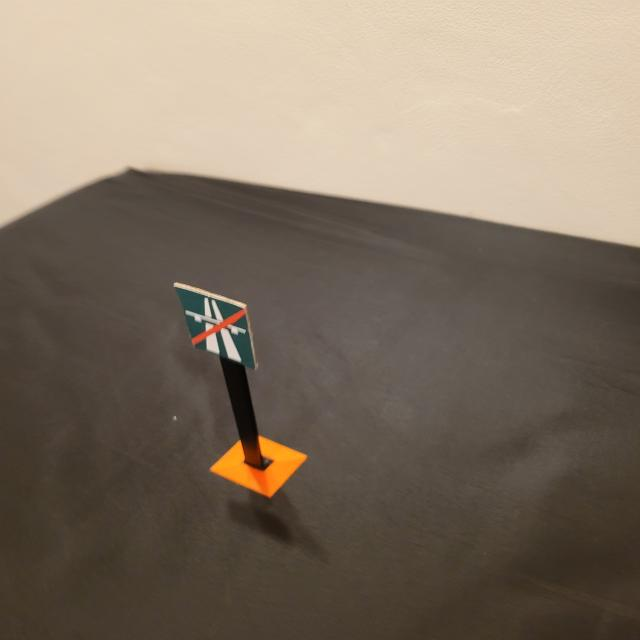highway_exit: (172, 282, 259, 370)
